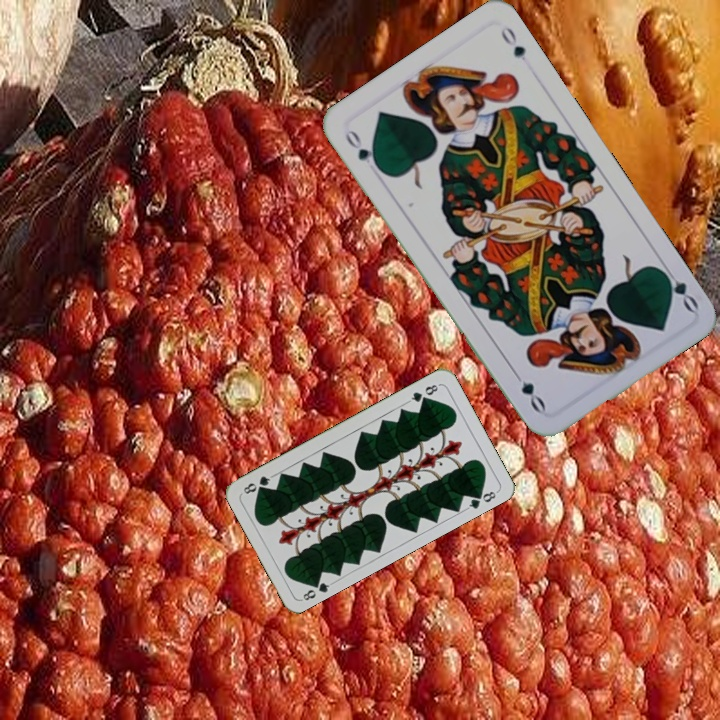G8: (298, 575, 335, 603), (405, 380, 442, 405)
GO: (656, 261, 701, 315), (340, 125, 384, 174)
